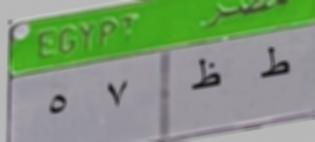5: (46, 88, 70, 120)
7: (104, 75, 131, 111)
Taa: (255, 47, 292, 85)
Thaa: (189, 55, 225, 95)
